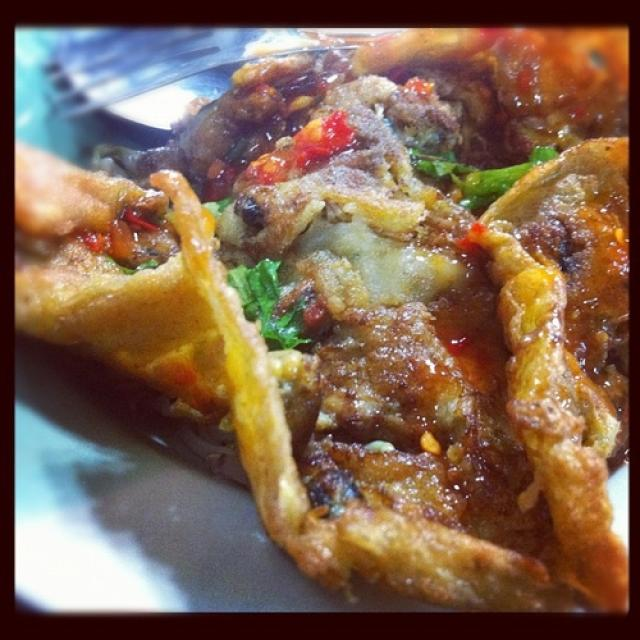炸货点心: (13, 40, 623, 613)
蛋糕甜品: (13, 40, 623, 613)
